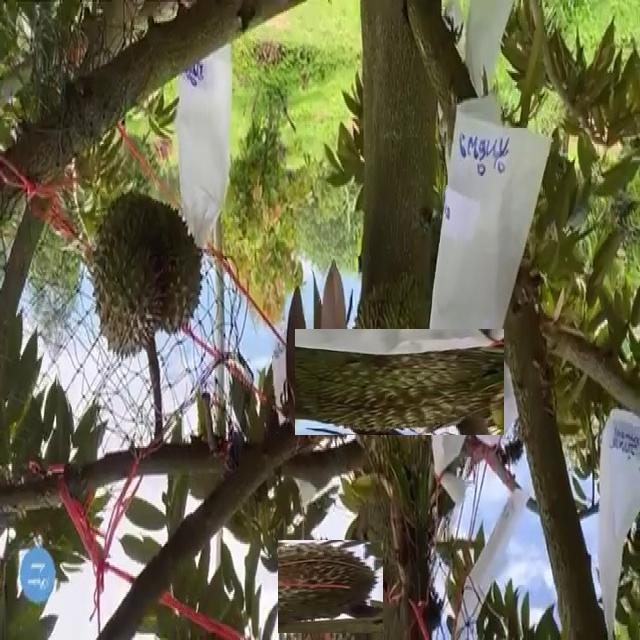durian: (321, 303, 478, 462), (91, 184, 205, 362), (281, 536, 380, 636)
